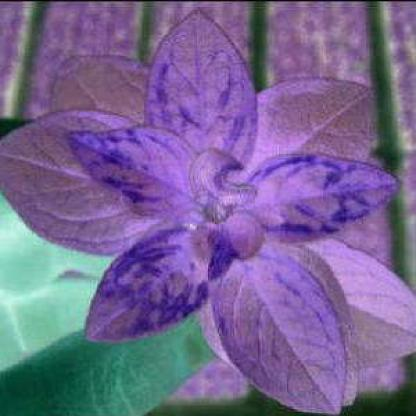tomato leaf mosaic virus: (207, 251, 347, 408), (148, 11, 263, 202), (65, 126, 211, 228), (243, 151, 404, 242)
